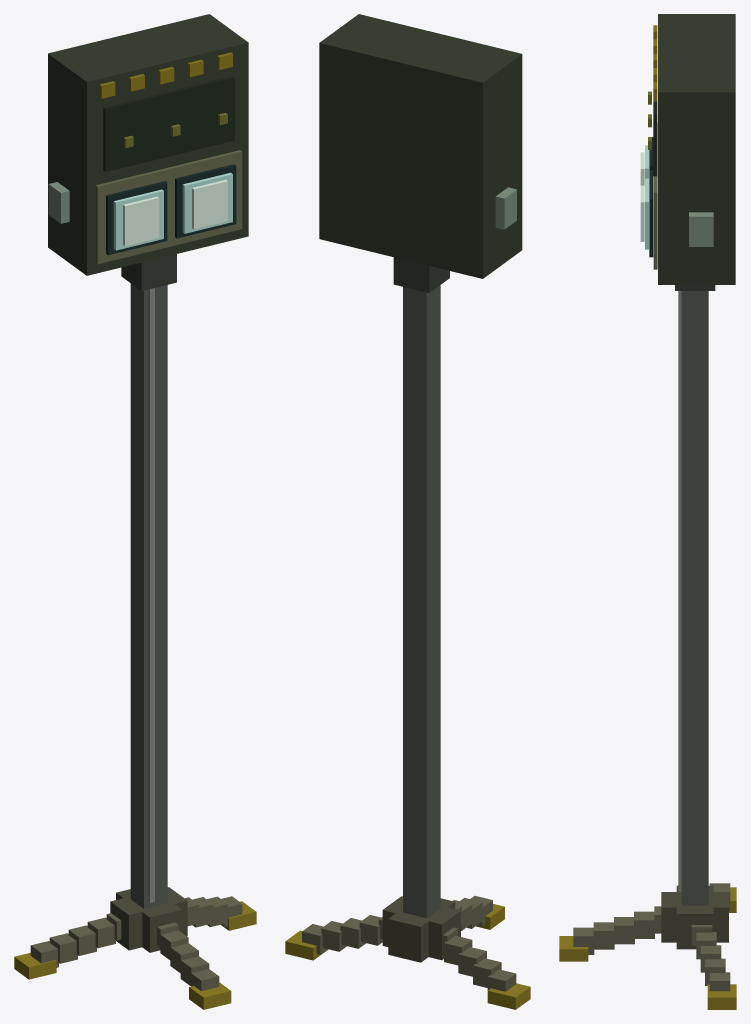
The model's file is CMU3DTallFloodlight.glb.
The picture shows the model from 3 angles, left to right: view 1: azimuth 30°, elevation 25°; view 2: azimuth 150°, elevation 25°; view 3: azimuth 270°, elevation 25°; orthographic projection.
Visible parts, largest first — view 1: floodlight housing, square mast, upper service panel, reflector surround, mast highlight, lamp core (×2), lamp dark gasket (×2), tripod center (×2), pale lamp glass (×2), tripod leg (×3), yellow foot cap (×2), mast collar (+1 smaller); view 2: floodlight housing, square mast, tripod center (×2), tripod leg (×3), yellow foot cap (×2), mast collar, lamp side adjustment grip; view 3: floodlight housing, square mast, tripod center (×2), tripod leg (×5), mast highlight, yellow foot cap (×2), lamp side adjustment grip, reflector surround, lamp dark gasket.
Part boxes in pixels (x1=…): floodlight housing: x1=48, y1=14, x2=248, y2=275; square mast: x1=130, y1=283, x2=167, y2=908; upper service panel: x1=103, y1=76, x2=234, y2=171; reflector surround: x1=95, y1=150, x2=242, y2=264; mast highlight: x1=148, y1=288, x2=154, y2=902; lamp core (×2): x1=123, y1=179, x2=227, y2=246; lamp dark gasket (×2): x1=106, y1=164, x2=236, y2=255; tripod center (×2): x1=110, y1=889, x2=182, y2=952; pale lamp glass (×2): x1=113, y1=172, x2=232, y2=250; tripod leg (×3): x1=49, y1=917, x2=115, y2=963; yellow foot cap (×2): x1=14, y1=953, x2=231, y2=1009; mast collar: x1=121, y1=254, x2=176, y2=290; floodlight housing: x1=319, y1=14, x2=522, y2=278; square mast: x1=403, y1=285, x2=440, y2=918; tripod center (×2): x1=388, y1=898, x2=460, y2=962; tripod leg (×3): x1=321, y1=918, x2=486, y2=976; yellow foot cap (×2): x1=285, y1=930, x2=530, y2=1009; mast collar: x1=393, y1=257, x2=449, y2=292; lamp side adjustment grip: x1=495, y1=187, x2=516, y2=229; floodlight housing: x1=658, y1=14, x2=735, y2=284; square mast: x1=681, y1=291, x2=708, y2=905; tripod center (×2): x1=661, y1=892, x2=728, y2=949; tripod leg (×5): x1=573, y1=911, x2=730, y2=991; mast highlight: x1=678, y1=291, x2=681, y2=892; yellow foot cap (×2): x1=559, y1=936, x2=736, y2=1009; lamp side adjustment grip: x1=689, y1=212, x2=713, y2=246; reflector surround: x1=653, y1=123, x2=657, y2=269; lamp dark gasket: x1=649, y1=170, x2=653, y2=257.
Size of the model in its own units: 0.774 by 2.95 by 0.526.
